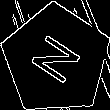N_SE: (25, 29, 87, 90)
